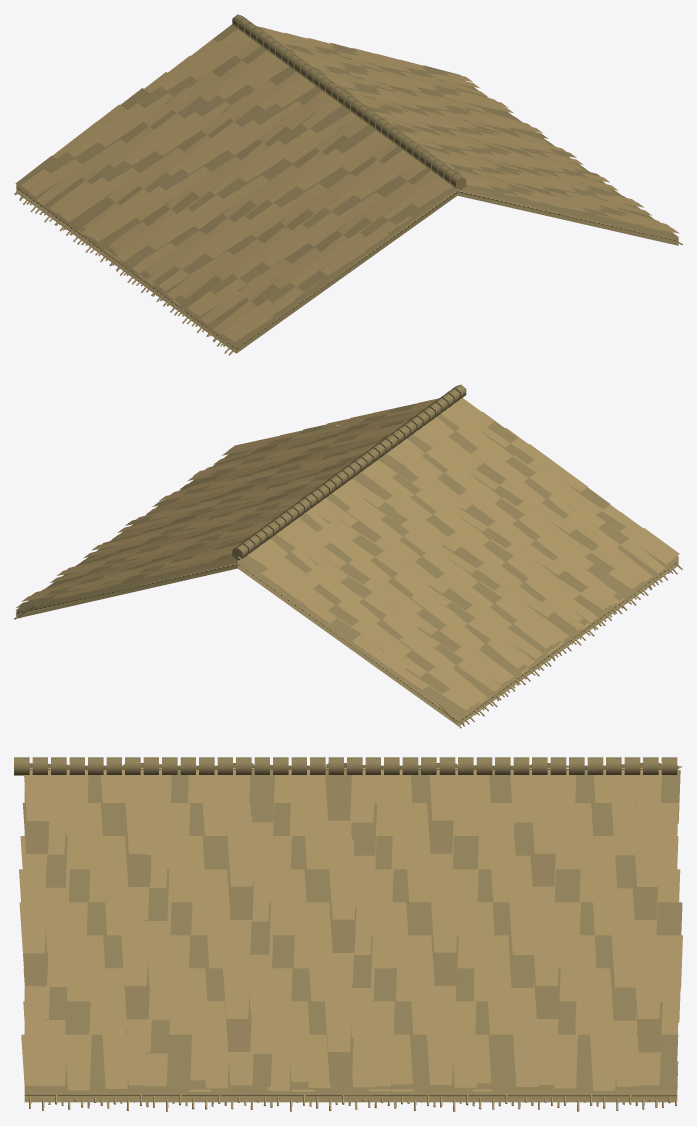
The picture shows the model from 3 angles, top to bottom: view 1: azimuth 30°, elevation 25°; view 2: azimuth 150°, elevation 25°; view 3: azimuth 270°, elevation 25°; orthographic projection. The views are drawn at different scales.
Parts seen in each view (by area): view 1: Mesh_thatch-honey, Mesh_thatch-shade; view 2: Mesh_thatch-honey, Mesh_thatch-shade; view 3: Mesh_thatch-honey, Mesh_thatch-shade.
Boxes of the visible parts, x1=… form: Mesh_thatch-honey: x1=14, y1=27, x2=682, y2=355; Mesh_thatch-shade: x1=15, y1=14, x2=678, y2=353; Mesh_thatch-honey: x1=14, y1=398, x2=682, y2=728; Mesh_thatch-shade: x1=16, y1=384, x2=678, y2=726; Mesh_thatch-honey: x1=19, y1=763, x2=682, y2=1111; Mesh_thatch-shade: x1=14, y1=757, x2=682, y2=1102.
Bounding box in the file's own units: 7.99 × 2.16 × 6.87.
